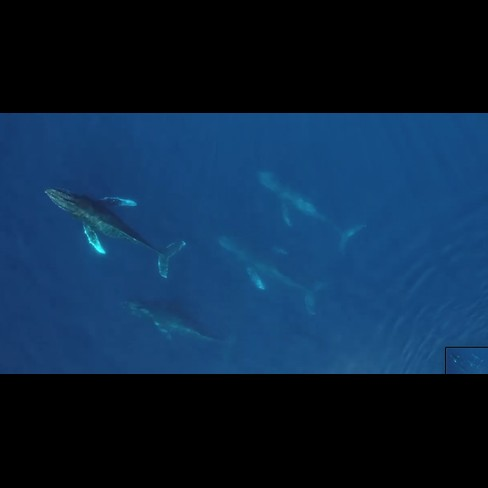hump: (39, 184, 188, 279), (207, 228, 334, 321), (252, 167, 376, 262), (121, 292, 247, 361)
